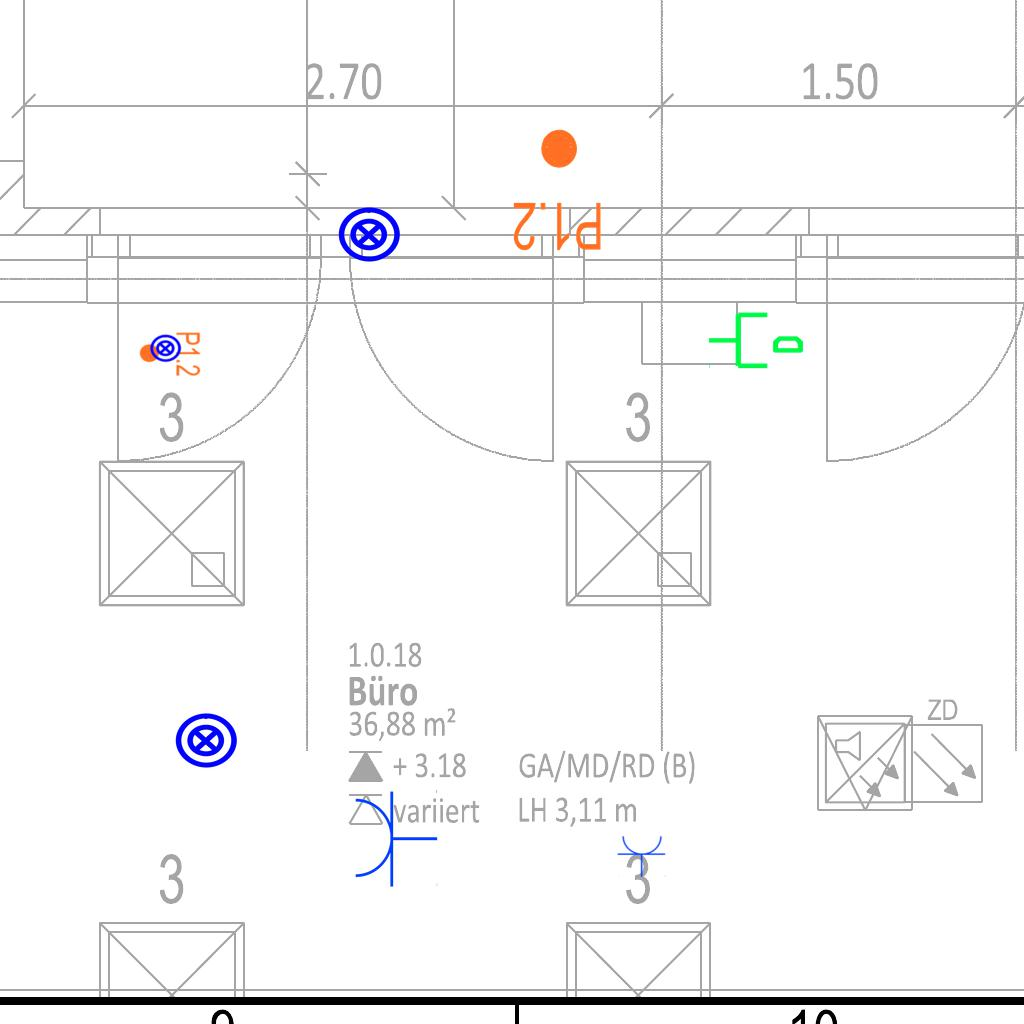Datenanschluss_einfach: (706, 304, 806, 373)
Downlight_LED_Einbauleuchten_Flur: (511, 126, 604, 254), (138, 331, 202, 377)
Schukosteckdose_einfach: (351, 788, 438, 888), (617, 834, 667, 877)
Taster_beleuchtet: (173, 708, 239, 774), (336, 202, 402, 268), (149, 332, 182, 365)
